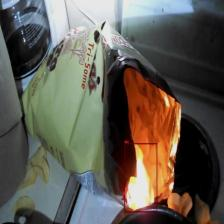fire: (124, 143, 157, 212)
